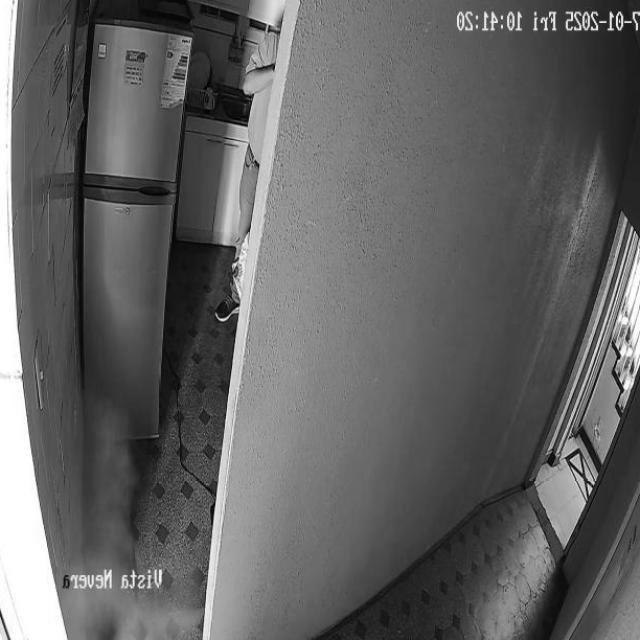fire: (61, 386, 208, 640)
